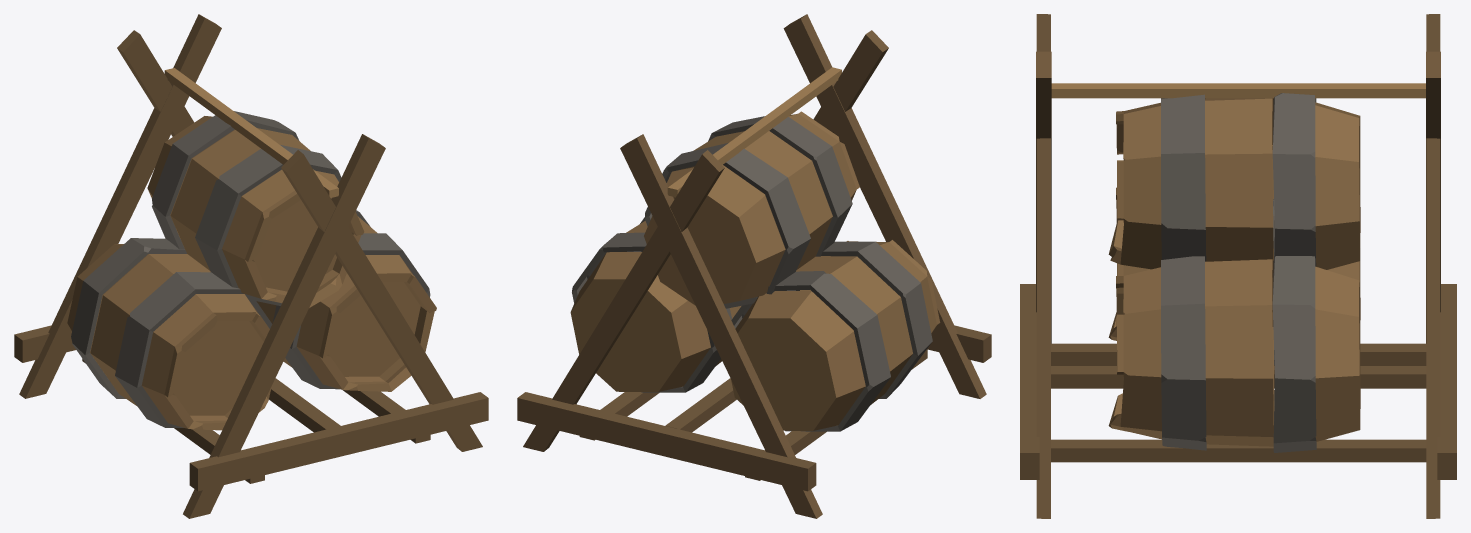
File: BarrelsStack_1.fbx
3 views of the same model, side by side, from view 1: azimuth 30°, elevation 25°; view 2: azimuth 150°, elevation 25°; view 3: azimuth 270°, elevation 25° (orthographic). The views are drawn at different scales.
Visible parts, largest first — view 1: BarrelsStack_1; view 2: BarrelsStack_1; view 3: BarrelsStack_1.
Boxes of the visible parts, left/top/right/bottom form: BarrelsStack_1: left=14, top=14, right=488, bottom=518; BarrelsStack_1: left=517, top=14, right=991, bottom=518; BarrelsStack_1: left=1020, top=14, right=1456, bottom=518.
Bounding box in the file's own units: 135 × 143 × 141.
